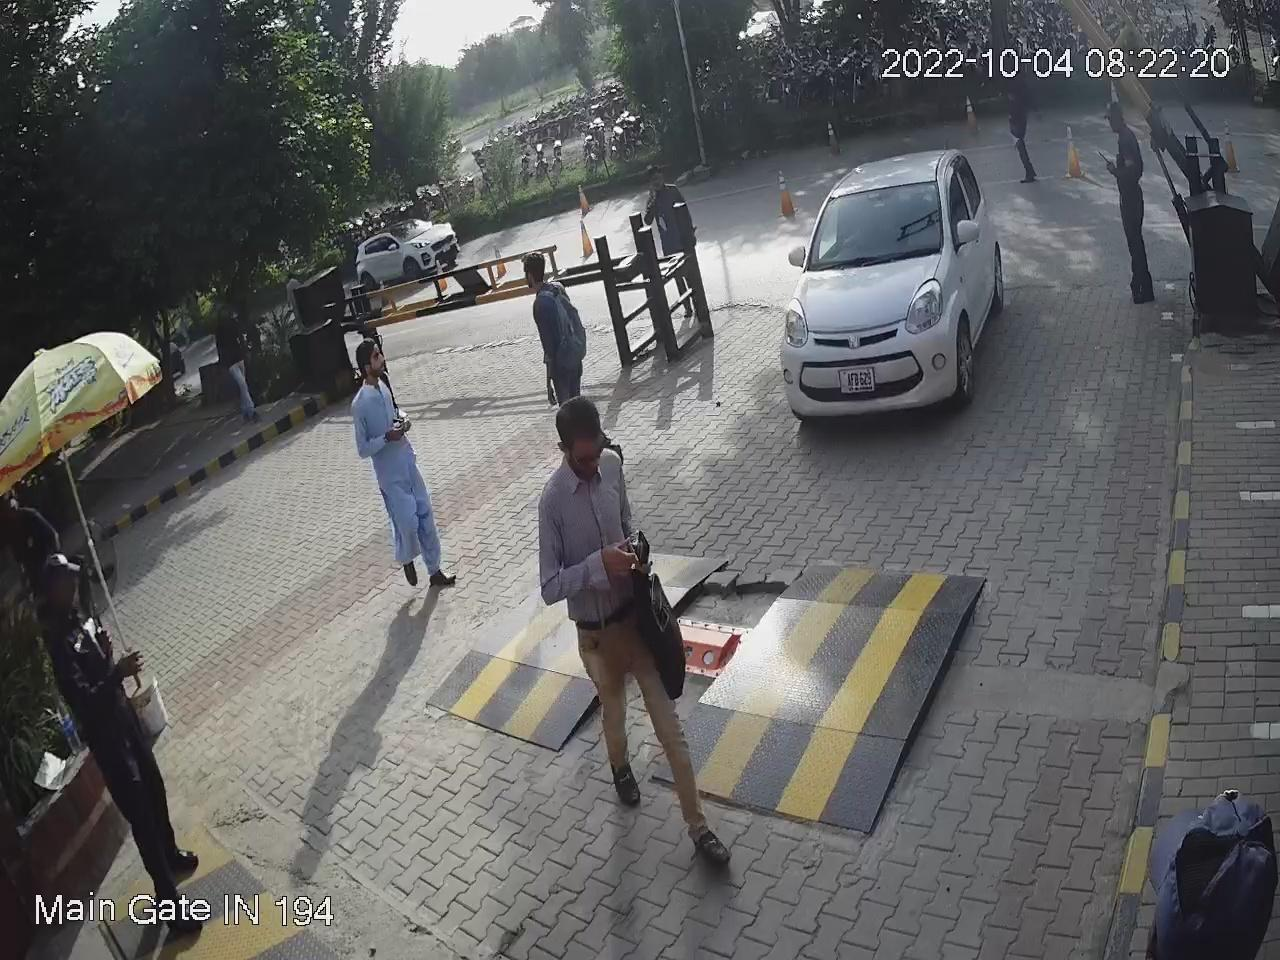windshield: (803, 172, 952, 275)
